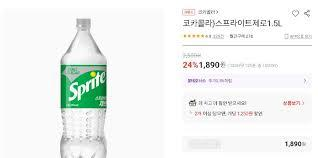sprite_zero: (60, 17, 106, 157)
